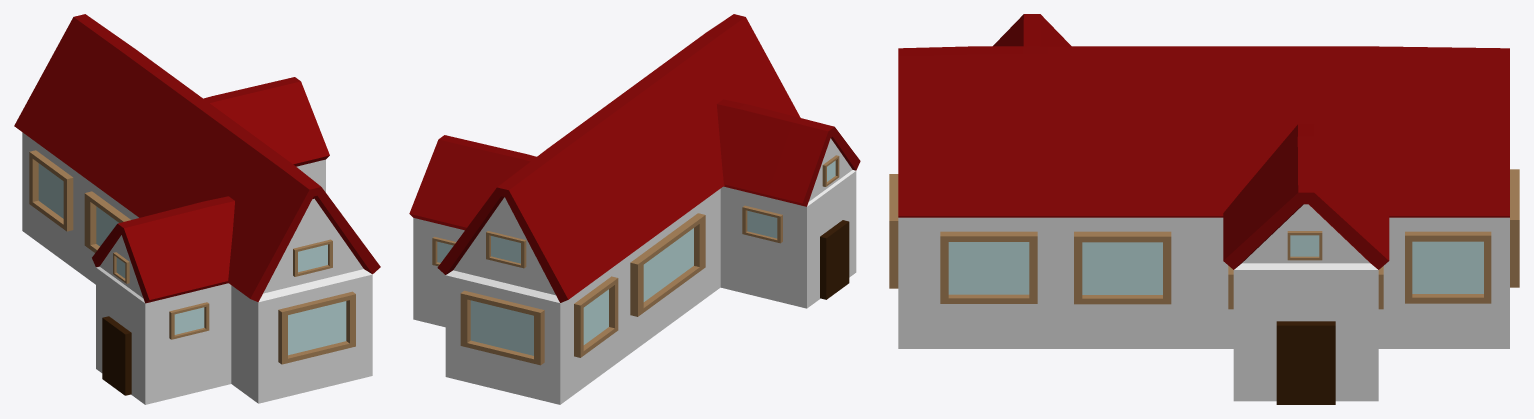
Rendered from _ouse_Red.fbx.
3 renders of one model, left to right at view 1: azimuth 30°, elevation 25°; view 2: azimuth 150°, elevation 25°; view 3: azimuth 270°, elevation 25°, orthographic. The views are drawn at different scales.
Visible parts, largest first — view 1: pCube25; view 2: pCube25; view 3: pCube25.
Boxes of the visible parts, x1,y1,x2,y2 form: pCube25: (14,14,380,404); pCube25: (409,14,860,404); pCube25: (889,14,1519,404).
Size of the model in its own units: 30.18 by 19.72 by 42.93.
